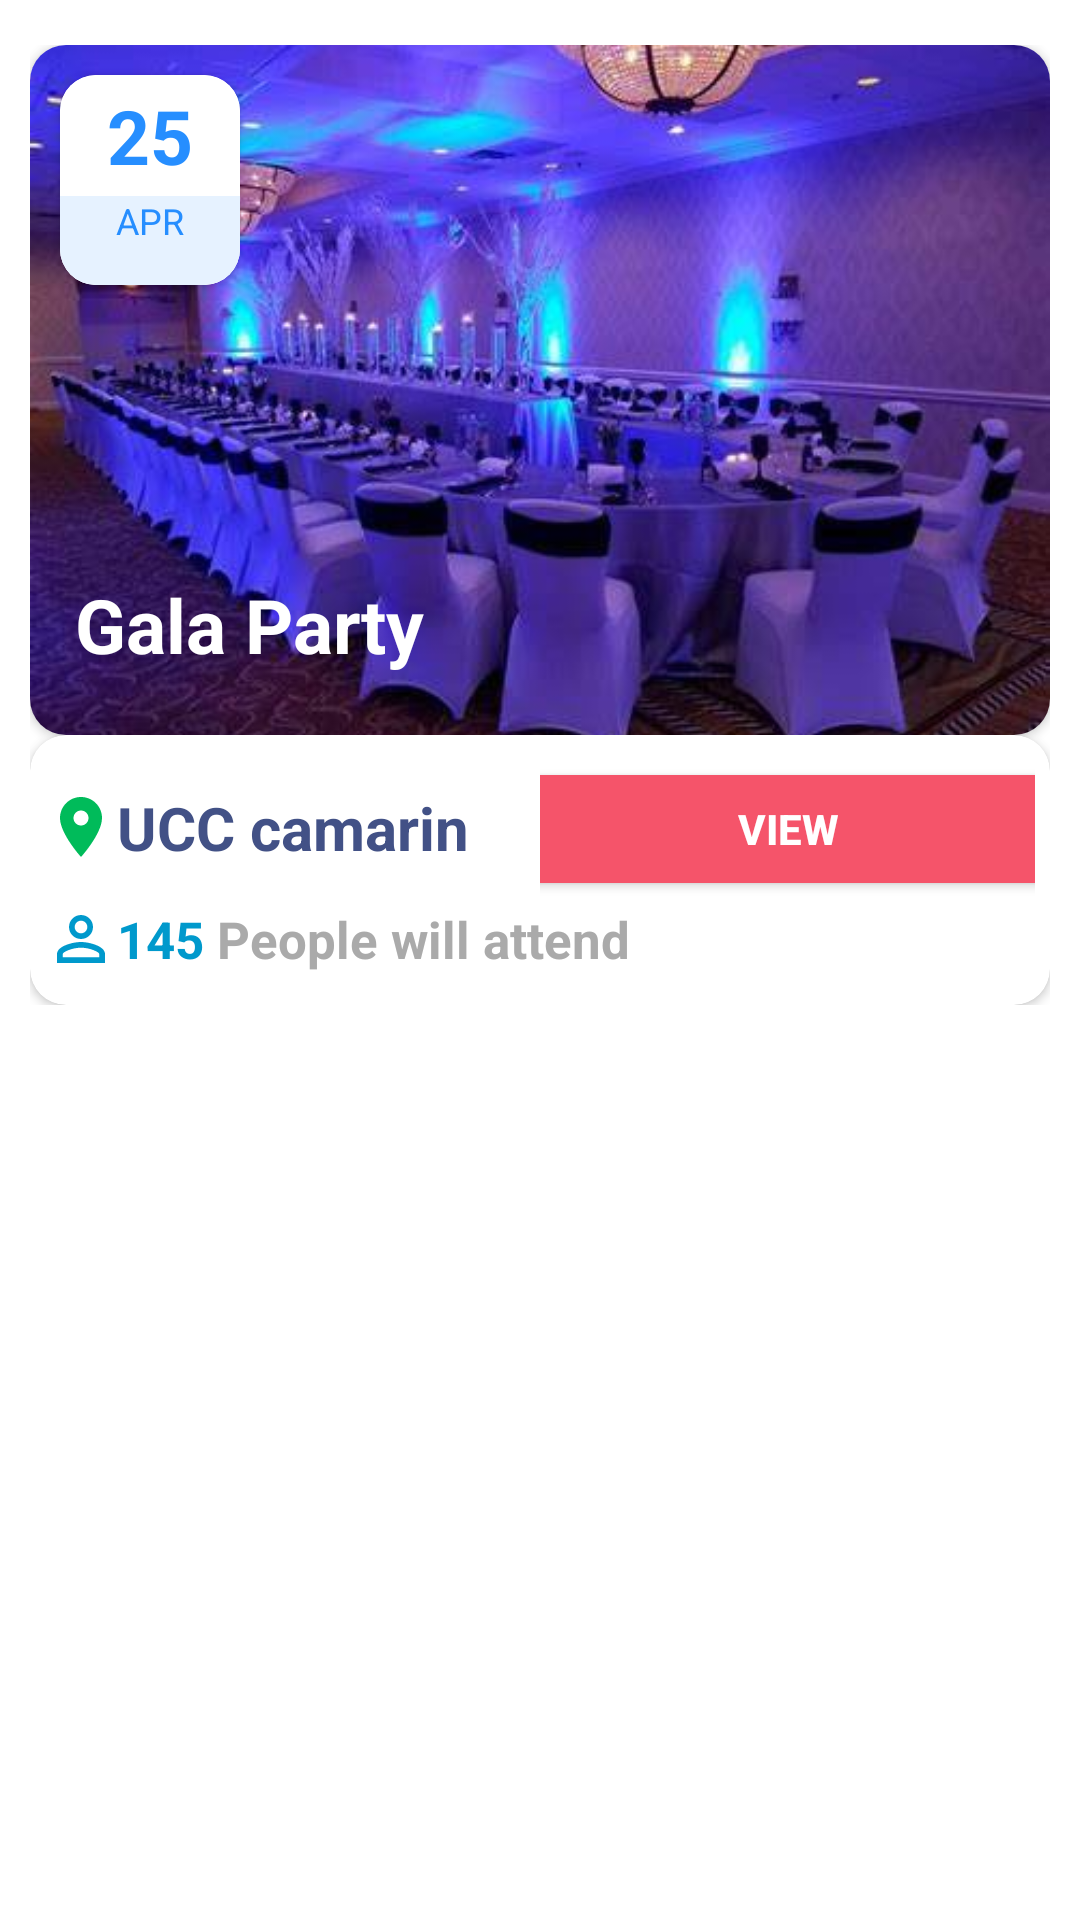

Named icons in this screenshot (1080x1920) and their bounding boxes, {"x1": x1, "y1": y1, "x2": x2, "y2": y2}:
location on: {"x1": 60, "y1": 797, "x2": 102, "y2": 857}
person: {"x1": 57, "y1": 915, "x2": 105, "y2": 963}
